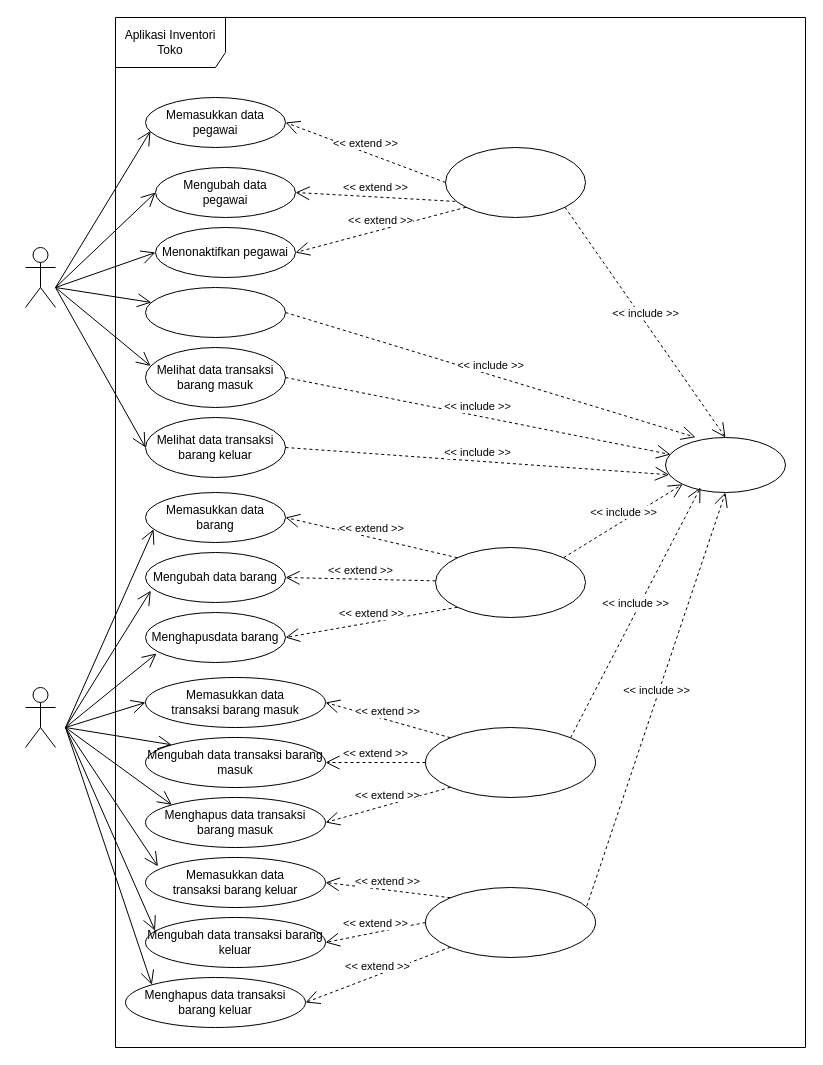
This 823x1065 diagram has some shape labels left out. The shapes that lost their labels are listed below. From the top down, each one's centre as x and y in pixels, then its label:
At point (515, 182): "Mengelola data pegawai".
At point (40, 277): "Pemilik".
At point (215, 312): "Melihat data barang".
At point (725, 464): "Login".
At point (510, 582): "Mengelola data barang".
At point (40, 717): "Pegawai".
At point (510, 762): "Mengelola data transaksi barang masuk".
At point (510, 922): "Mengelola data transaksi barang keluar".
